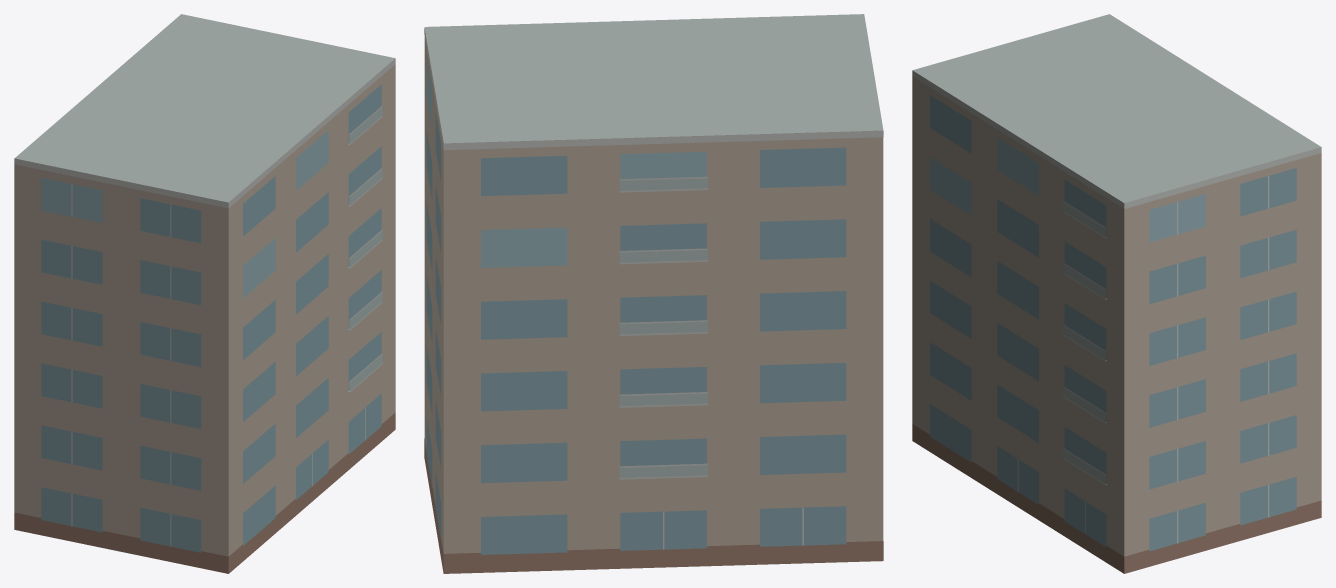
Rendered from survey-upis-32930862.glb.
3 renders of one model, left to right at view 1: azimuth 30°, elevation 25°; view 2: azimuth 150°, elevation 25°; view 3: azimuth 270°, elevation 25°, orthographic. The views are drawn at different scales.
Parts seen in each view (by area): view 1: survey-upis-32930862.tmp; view 2: survey-upis-32930862.tmp; view 3: survey-upis-32930862.tmp.
Part boxes in pixels (bbox=[...]): survey-upis-32930862.tmp: bbox=[14, 14, 395, 573]; survey-upis-32930862.tmp: bbox=[424, 14, 883, 573]; survey-upis-32930862.tmp: bbox=[912, 14, 1321, 573].
Size of the model in its own units: 16.98 by 15.5 by 15.52.
